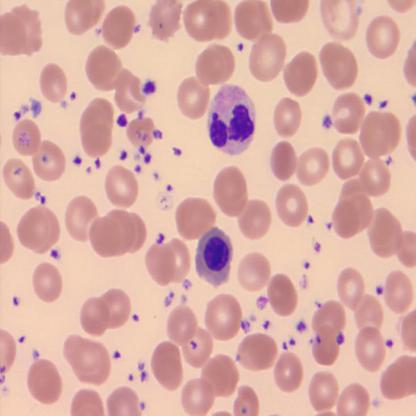NRC: (194, 224, 236, 288)
